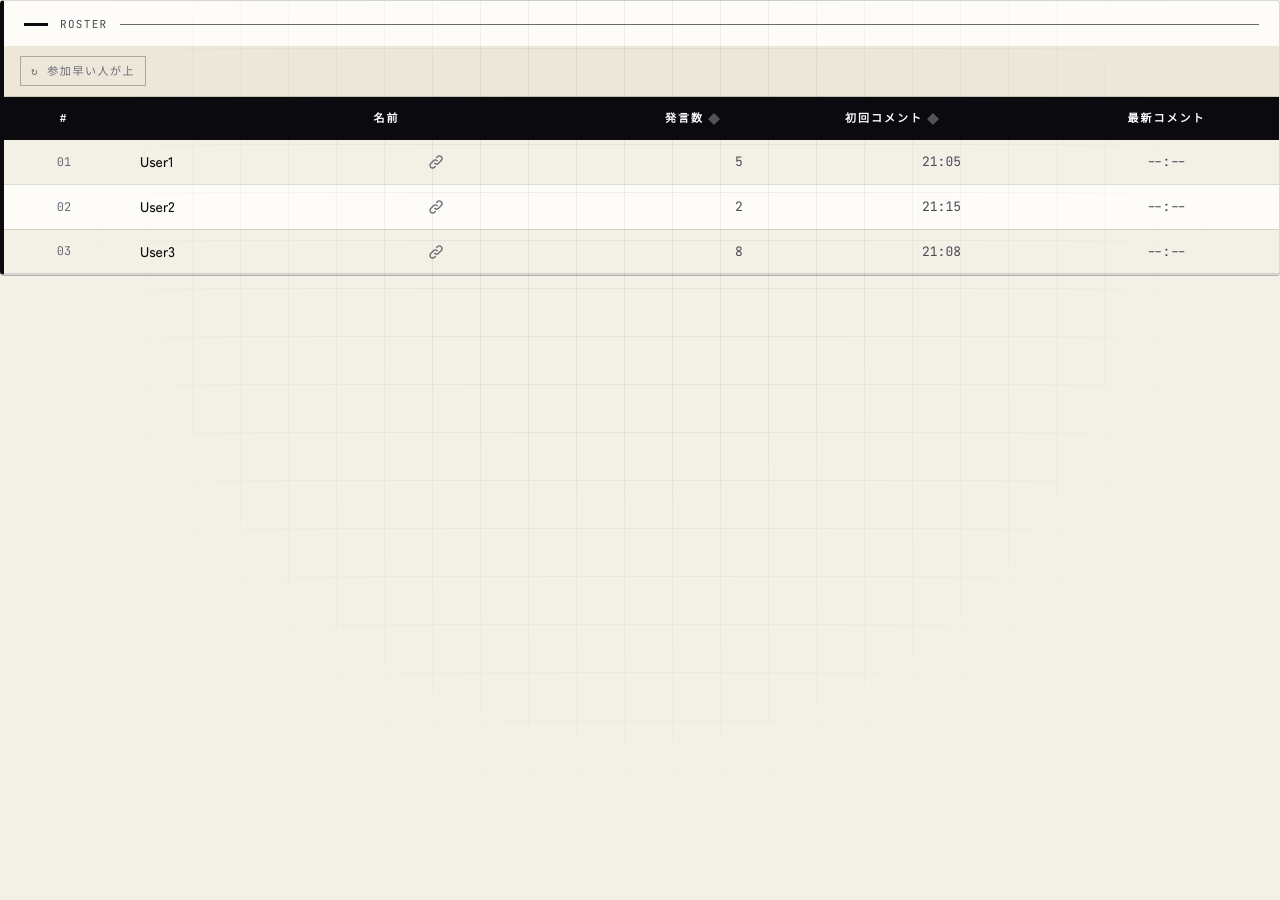
Test: UserTable コンポーネント › ソート機能 › 発言数ソートボタン2回クリックで昇順にソートされる
Click the button "発言数". click: click(692, 119)
box: left=665, top=109, right=720, bottom=128
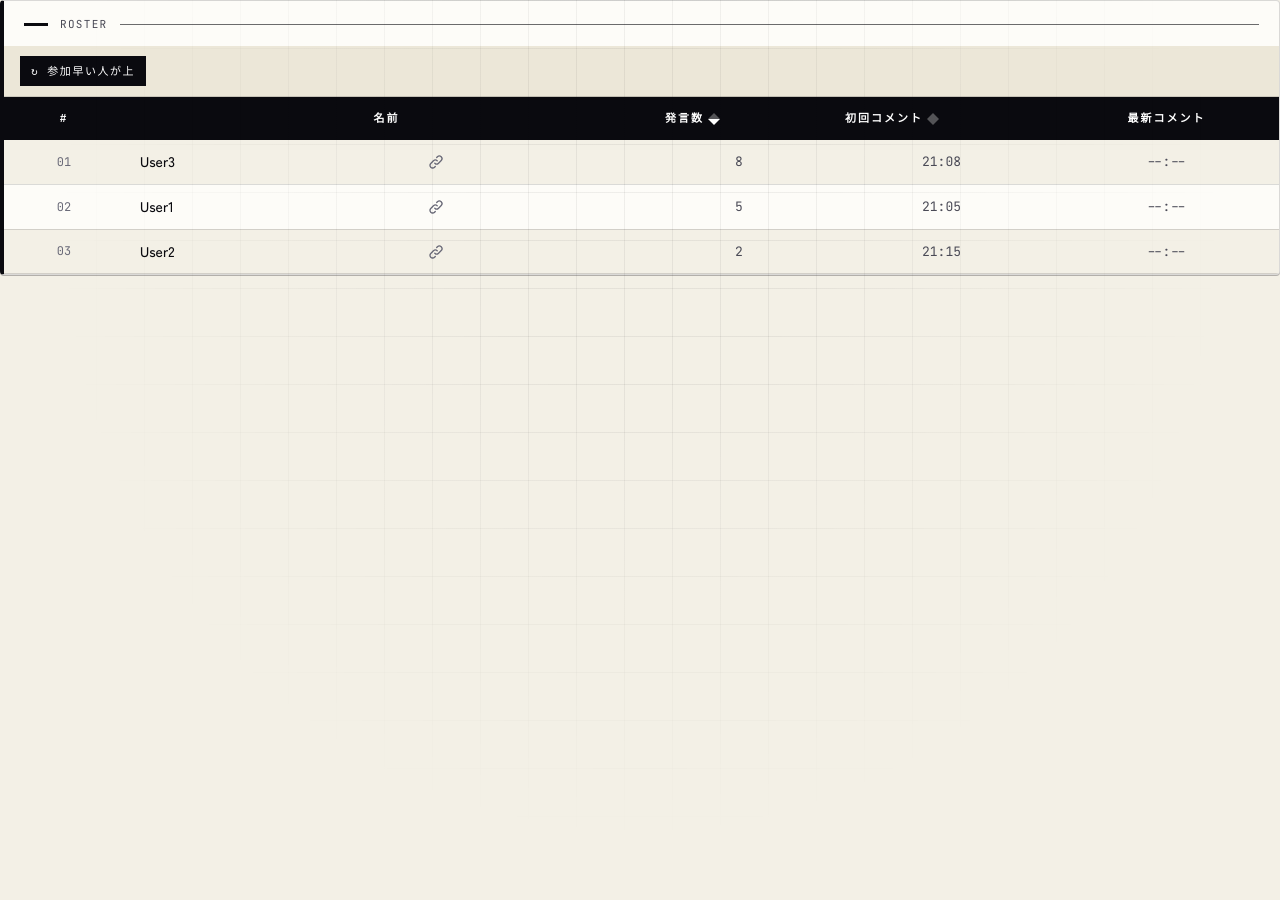
Click the button "発言数". click: click(692, 119)
box: left=665, top=109, right=720, bottom=128
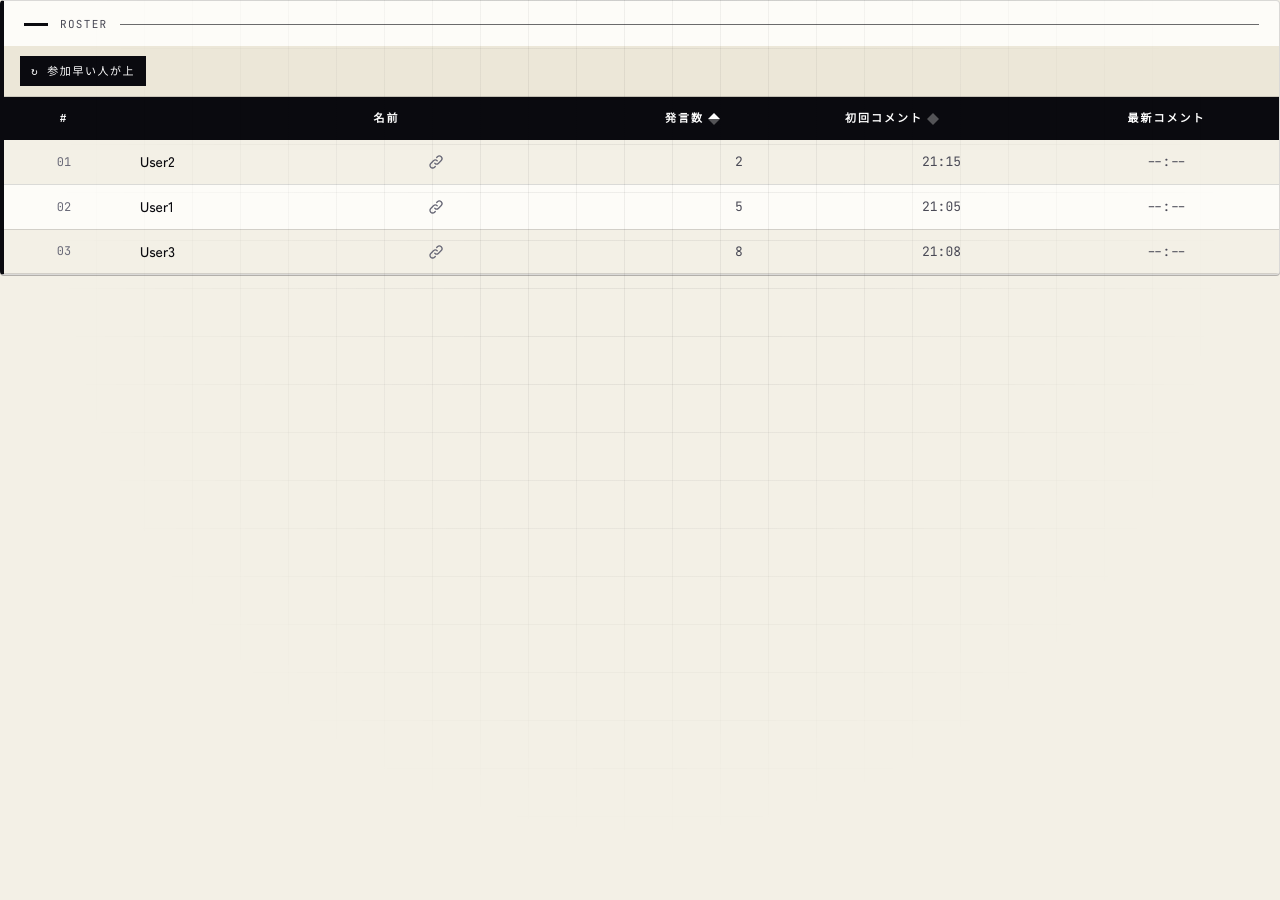
Result: the row "02 User1 5 21:05 --:--" is shown at left=4, top=184, right=1279, bottom=229
Result: the row "01 User2 2 21:15 --:--" is shown at left=4, top=140, right=1279, bottom=184
Result: the row "03 User3 8 21:08 --:--" is shown at left=4, top=229, right=1279, bottom=274
